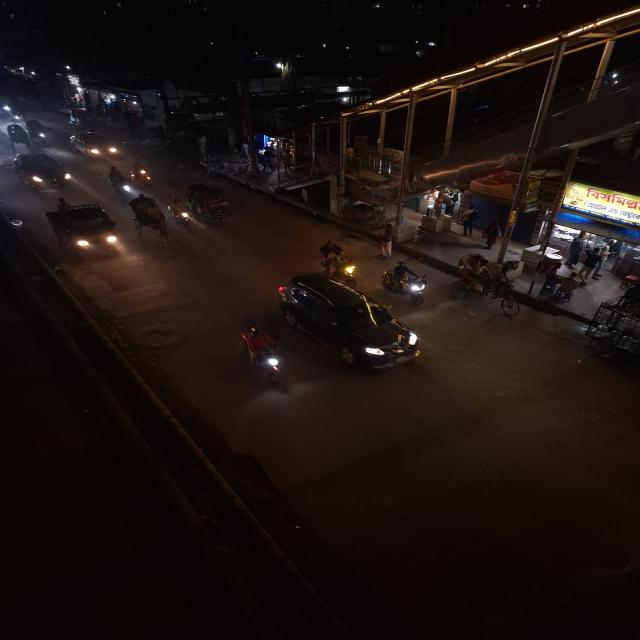car: (274, 270, 434, 375), (11, 151, 72, 194), (67, 129, 120, 161)
motorcycle: (233, 323, 290, 390), (382, 260, 432, 306), (315, 237, 362, 284), (107, 164, 137, 200), (128, 160, 157, 188), (12, 110, 25, 122)
pedestrian: (374, 222, 400, 260)
pickup_van: (46, 198, 123, 258), (4, 120, 30, 152)
rickshaw: (451, 252, 518, 305), (181, 181, 237, 229), (128, 192, 170, 242), (169, 188, 194, 228), (3, 121, 31, 153)
